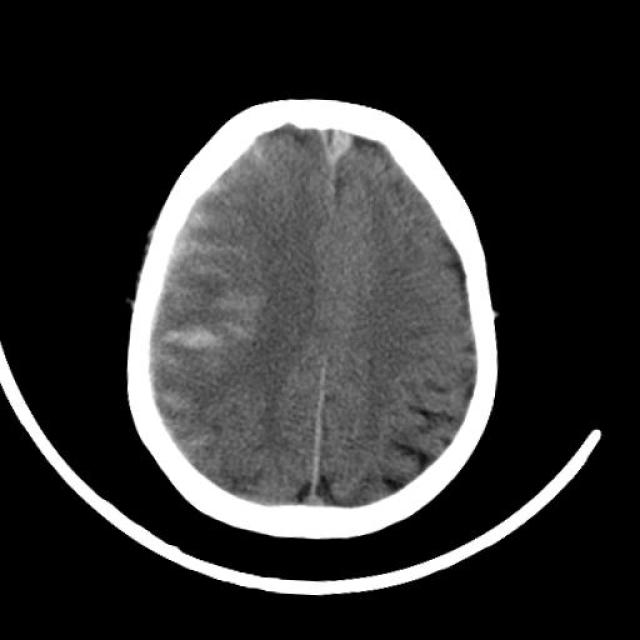Subarachnoid: (154, 207, 256, 425)
Subdural: (274, 361, 378, 538), (286, 110, 364, 202)
